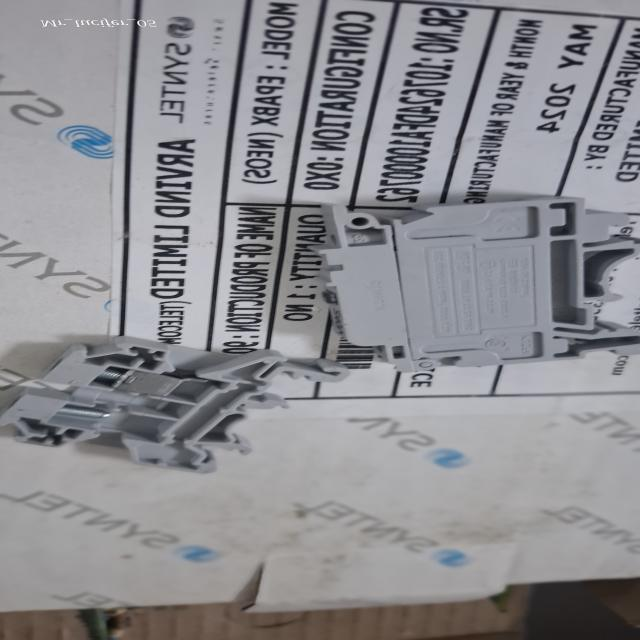Pass: (0, 334, 359, 478)
